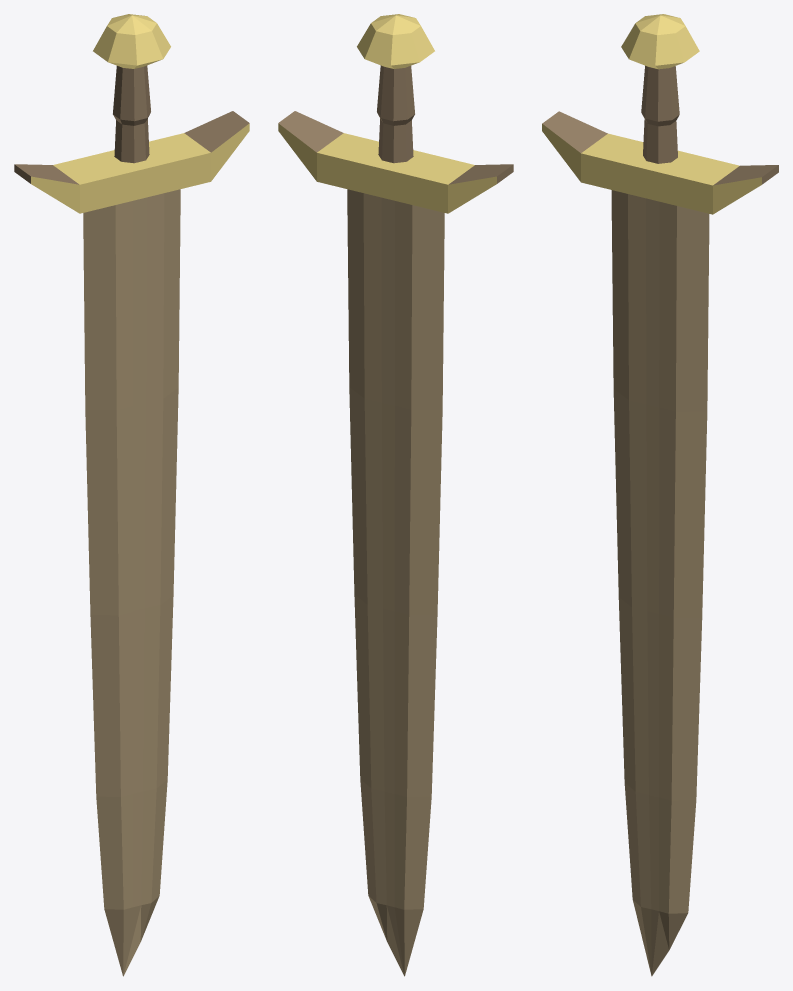
File: gear_longsword_v1.glb
3 renders of one model, left to right at view 1: azimuth 30°, elevation 25°; view 2: azimuth 150°, elevation 25°; view 3: azimuth 330°, elevation 25°, orthographic.
Visible parts, largest first — view 1: gear_longsword; view 2: gear_longsword; view 3: gear_longsword.
Boxes of the visible parts, bbox=[...] form: gear_longsword: bbox=[14, 14, 249, 976]; gear_longsword: bbox=[278, 14, 513, 976]; gear_longsword: bbox=[542, 14, 778, 976].
Size of the model in its own units: 0.234 by 0.9805 by 0.0677.
